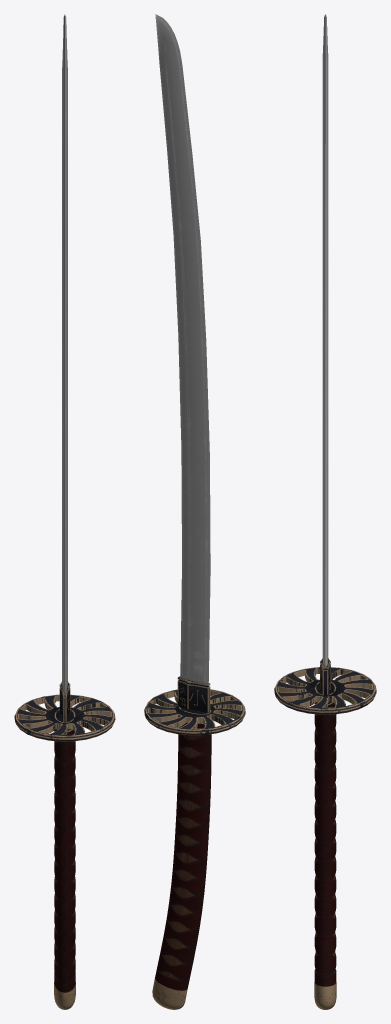
The model's file is antique_katana_01.glb.
3 renders of one model, left to right at view 1: azimuth 90°, elevation 25°; view 2: azimuth 150°, elevation 25°; view 3: azimuth 270°, elevation 25°, orthographic.
Parts seen in each view (by area): view 1: antique_katana_01; view 2: antique_katana_01; view 3: antique_katana_01.
Boxes of the visible parts, x1,y1,x2,y2 form: antique_katana_01: (14, 14, 115, 1009); antique_katana_01: (144, 14, 245, 1009); antique_katana_01: (274, 14, 376, 1009).
Bounding box in the file's own units: 0.0934 × 1 × 0.0934.
1 material, 1 textured.
